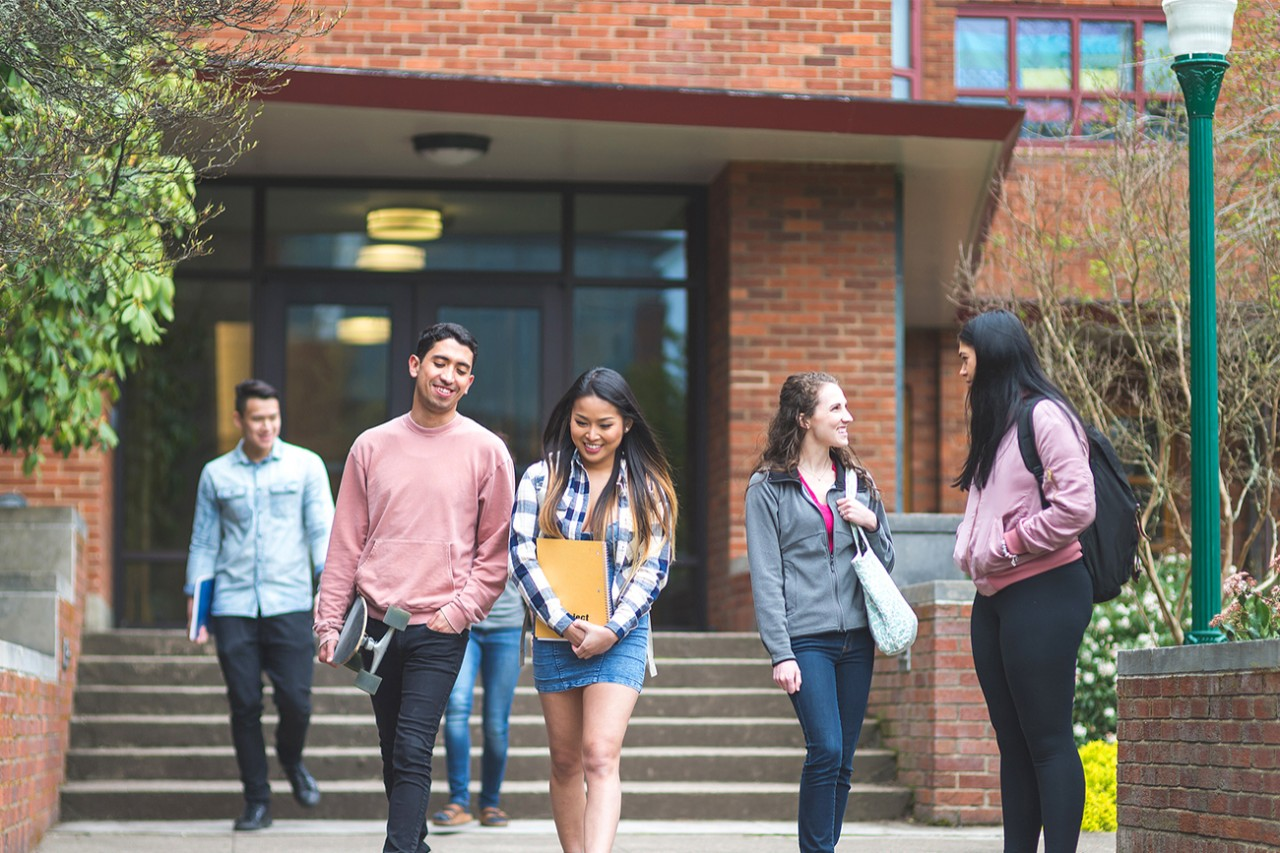Person: (313, 322, 516, 853), (952, 308, 1145, 853), (743, 370, 919, 852), (511, 365, 678, 853), (180, 376, 334, 832)
